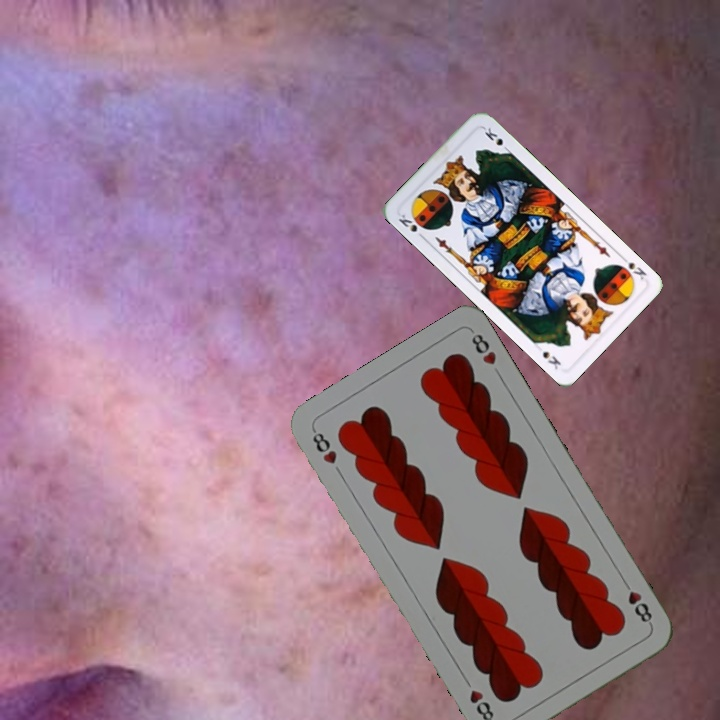H8: (618, 575, 655, 629), (308, 425, 340, 467)
SK: (394, 208, 428, 242), (616, 253, 649, 282)
